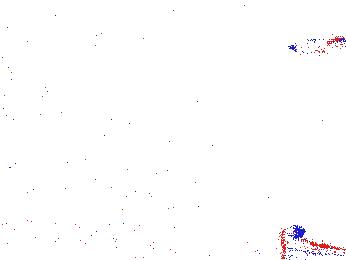glassfish: (278, 222, 346, 260)
redtail glassfish: (288, 36, 346, 58)
